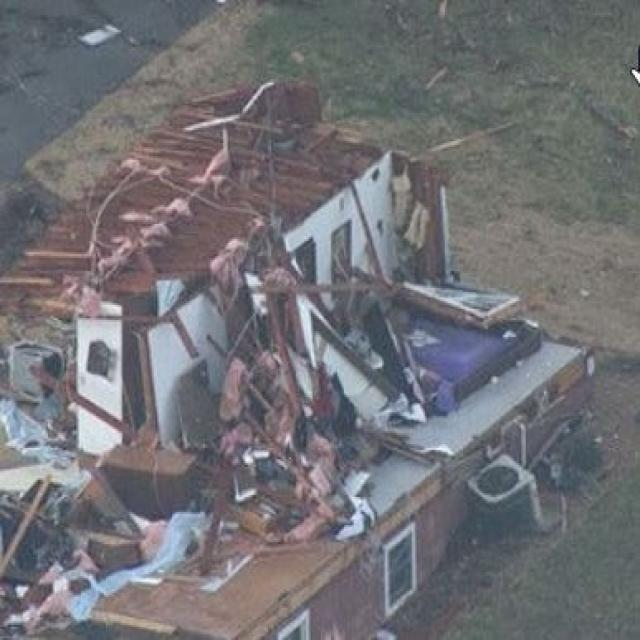collapsed_building: (0, 92, 493, 484)
